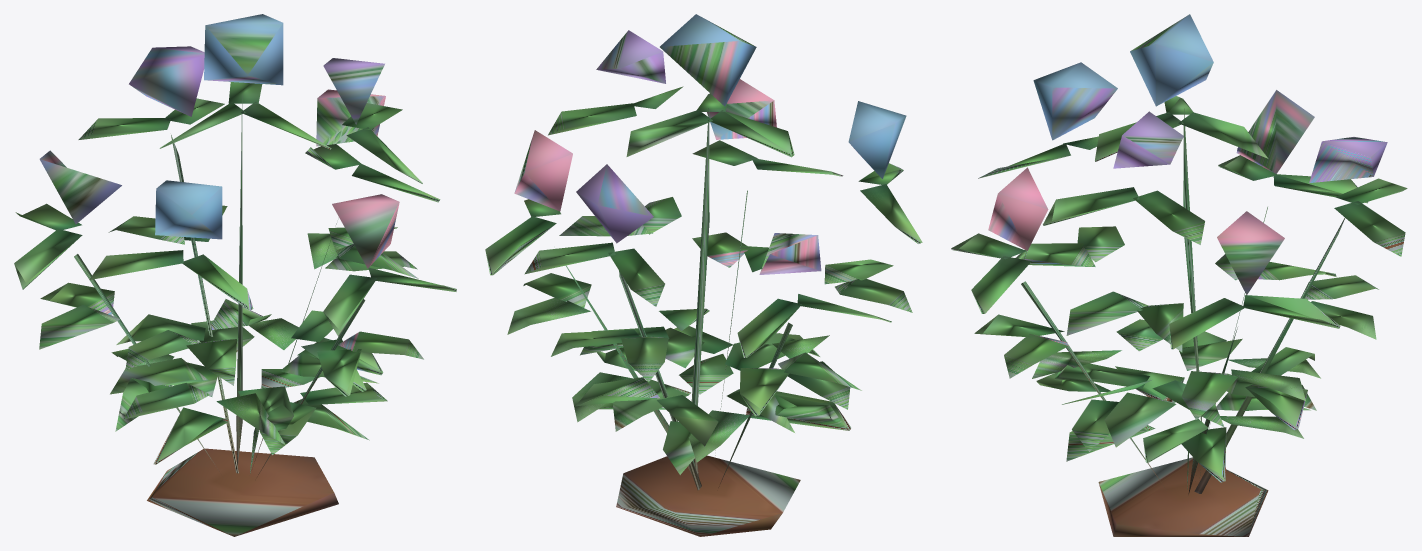
Rendered from hydrangea.glb.
The picture shows the model from 3 angles, left to right: view 1: azimuth 30°, elevation 25°; view 2: azimuth 150°, elevation 25°; view 3: azimuth 270°, elevation 25°; orthographic projection.
Visible parts, largest first — view 1: hydrangea_body; view 2: hydrangea_body; view 3: hydrangea_body.
Part boxes in pixels (x1,y1,x2,y2): hydrangea_body: [14, 14, 456, 536]; hydrangea_body: [485, 14, 922, 536]; hydrangea_body: [951, 14, 1407, 536].
Bounding box in the file's own units: 0.8179 × 0.9367 × 0.8146.
1 material, 1 textured.
